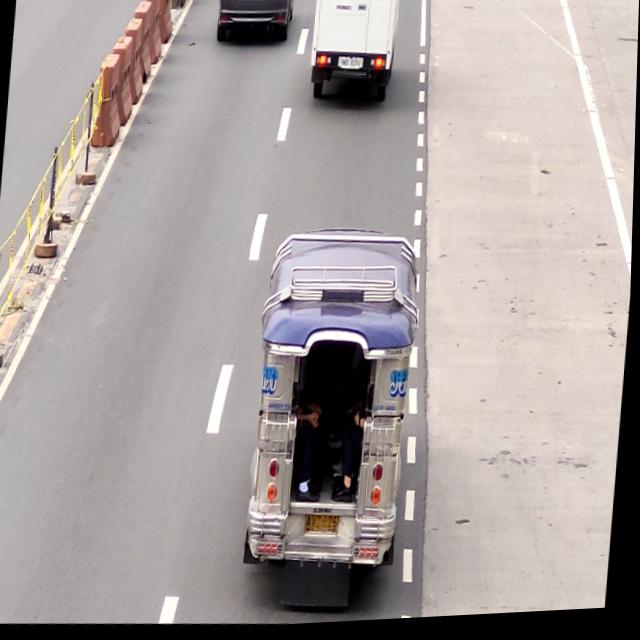Car: (310, 0, 402, 110), (214, 0, 293, 53)
Jeep: (244, 230, 428, 613)
License-Plate: (308, 514, 344, 542), (340, 59, 362, 77)
